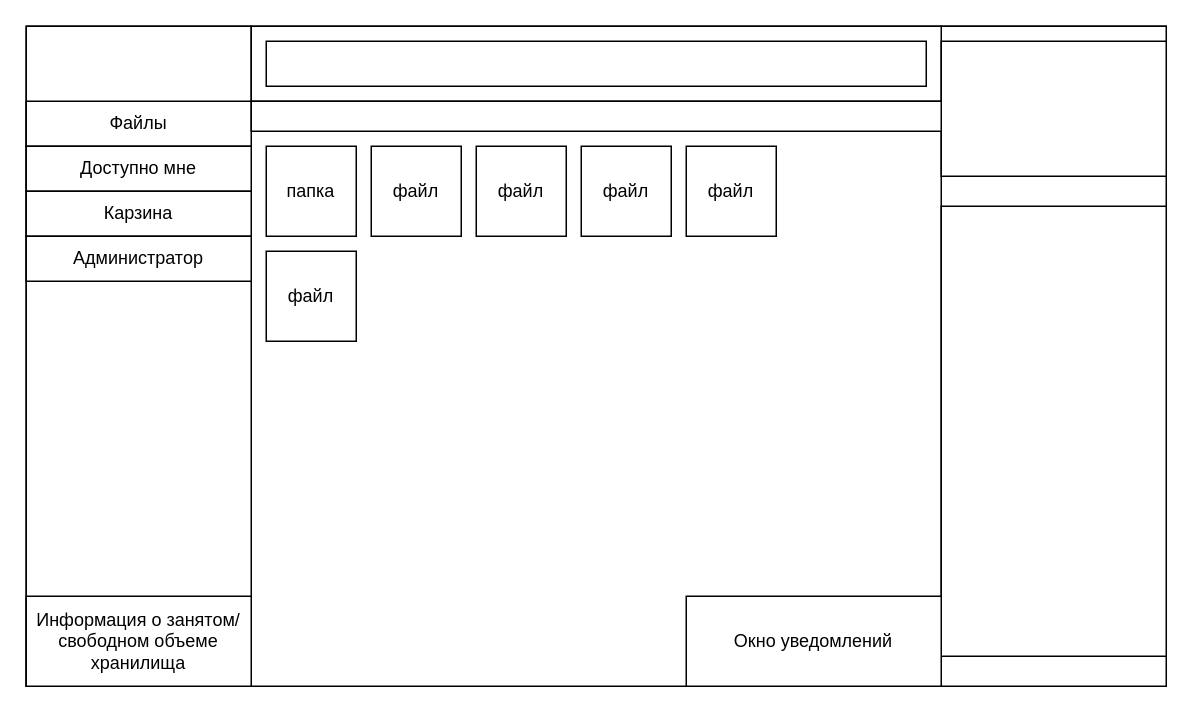
Image size: 1193x713. Some labels were removed from this diagram. The centre of each missing label's shape, as x and y in pixels:
"Информация о файле" goes at point 1053,430.
"Превью" goes at point 1053,108.
"Путь к файлу" goes at point 595,63.
"фильтры для выбранного файла" goes at point 595,115.
